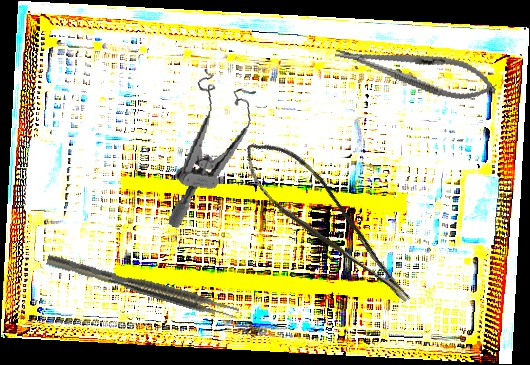Micro Scissor: (232, 121, 417, 330)
Needle Holder: (331, 31, 501, 109)
Speculum: (168, 66, 258, 236)
Tissue Forceps: (45, 248, 241, 323)
